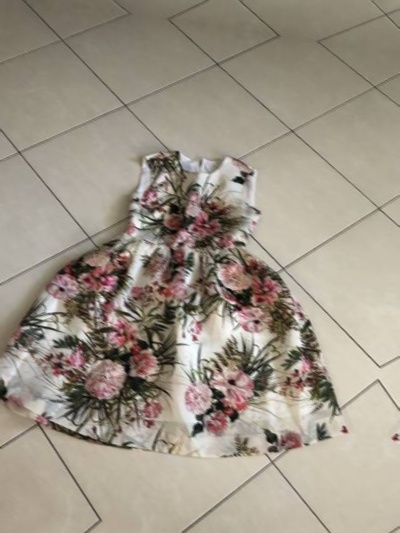Dress: (0, 107, 397, 489), (377, 166, 400, 533)
